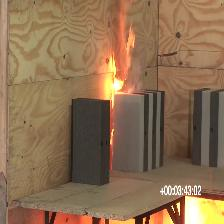fire: (110, 0, 136, 105)
